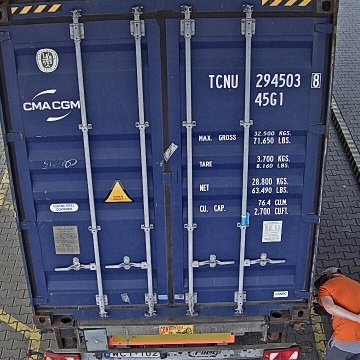serial_id: (209, 73, 320, 88)
